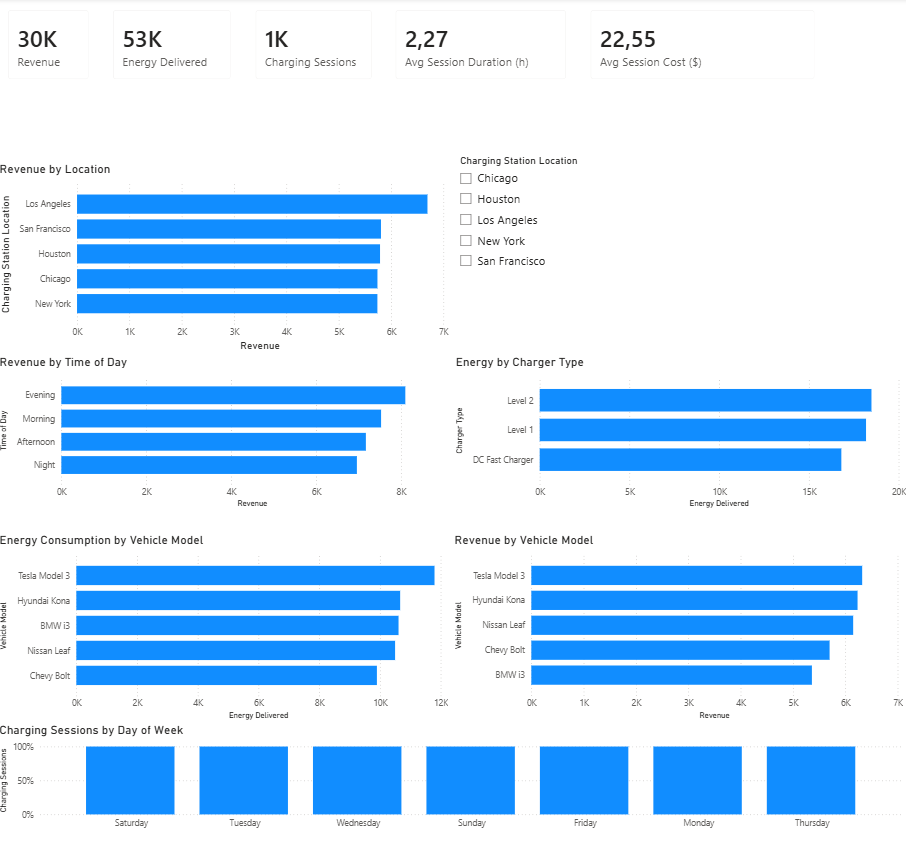

The page's visual inventory and layout, read from the dashboard file:
{"tool":"powerbi","page":{"name":"Page 1","canvas":[1280,1200],"ordinal":0},"visuals":[{"type":"cardVisual","fields":{"Data":["ev_charging_patterns.Total Revenue"]},"box":[0,0,272.9,212.9],"z":0},{"type":"cardVisual","fields":{"Data":["ev_charging_patterns.Total Energy"]},"box":[272.9,0,188.6,212.9],"z":1000},{"type":"cardVisual","fields":{"Data":["ev_charging_patterns.Total Sessions"]},"box":[461.4,0,197.1,212.9],"z":2000},{"type":"cardVisual","fields":{"Data":["ev_charging_patterns.Avg Session Duration"]},"box":[658.6,0,272.9,212.9],"z":3000},{"type":"cardVisual","fields":{"Data":["ev_charging_patterns.Avg Charging Cost"]},"box":[931.4,0,348.6,212.9],"z":4000},{"type":"clusteredBarChart","title":"Revenue by Location","fields":{"Category":["ev_charging_patterns.Charging Station Location"],"Y":["ev_charging_patterns.Total Revenue"]},"box":[0,229.2,639.5,270.3],"z":5000},{"type":"clusteredBarChart","title":"Revenue by Time of Day","fields":{"Category":["ev_charging_patterns.Time of Day"],"Y":["ev_charging_patterns.Total Revenue"]},"box":[0,499.5,639.5,220.9],"z":7000},{"type":"clusteredBarChart","title":"Energy by Charger Type","fields":{"Category":["ev_charging_patterns.Charger Type"],"Y":["ev_charging_patterns.Total Energy"]},"box":[639,499,641,221],"z":8000},{"type":"clusteredBarChart","title":"Energy Consumption by Vehicle Model","fields":{"Category":["ev_charging_patterns.Vehicle Model"],"Y":["ev_charging_patterns.Total Energy"]},"box":[0,750,638.6,267.1],"z":8001},{"type":"hundredPercentStackedColumnChart","title":"Charging Sessions by Day of Week","fields":{"Category":["ev_charging_patterns.Day of Week"],"Y":["ev_charging_patterns.Total Sessions"]},"box":[0,1016.7,1276.7,158.3],"z":8003},{"type":"barChart","fields":{"Category":["ev_charging_patterns.Vehicle Model"],"Y":["ev_charging_patterns.Total Revenue"]},"box":[638.3,750,638.3,266.7],"z":8004},{"type":"slicer","fields":{"Values":["ev_charging_patterns.Charging Station Location"]},"box":[638.3,213.3,638.3,268.3],"z":8005}]}

Visuals, with their boxes in screenshot pixels (x1, y1, x2, y2), scaled from the page's 1280x1200 canvas onto the 906x851 screenshot:
cardVisual - ev_charging_patterns.Total Revenue: region(0, 0, 193, 151)
cardVisual - ev_charging_patterns.Total Energy: region(193, 0, 327, 151)
cardVisual - ev_charging_patterns.Total Sessions: region(327, 0, 466, 151)
cardVisual - ev_charging_patterns.Avg Session Duration: region(466, 0, 659, 151)
cardVisual - ev_charging_patterns.Avg Charging Cost: region(659, 0, 905, 151)
"Revenue by Location" clusteredBarChart: region(0, 163, 453, 354)
"Revenue by Time of Day" clusteredBarChart: region(0, 354, 453, 511)
"Energy by Charger Type" clusteredBarChart: region(452, 354, 905, 511)
"Energy Consumption by Vehicle Model" clusteredBarChart: region(0, 532, 452, 721)
"Charging Sessions by Day of Week" hundredPercentStackedColumnChart: region(0, 721, 904, 833)
barChart - ev_charging_patterns.Vehicle Model x ev_charging_patterns.Total Revenue: region(452, 532, 904, 721)
slicer - ev_charging_patterns.Charging Station Location: region(452, 151, 904, 342)
